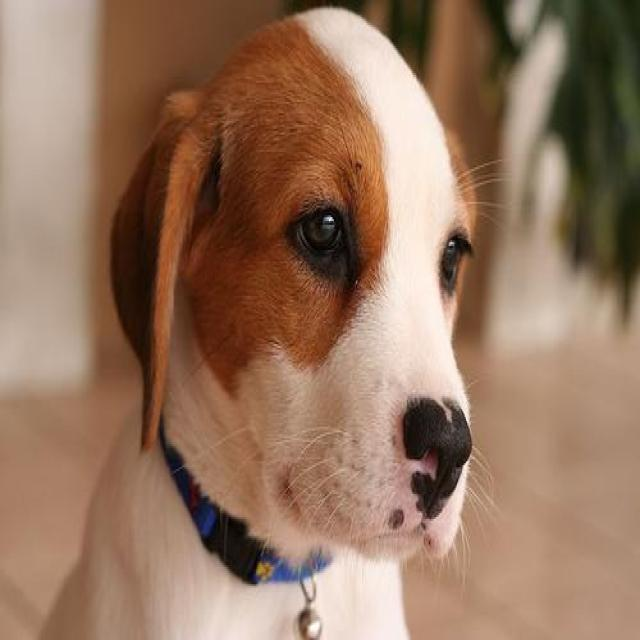beagle: (38, 4, 506, 638)
